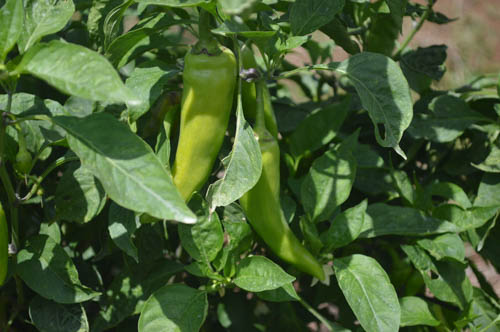ChiliPepper: (163, 52, 235, 213), (243, 144, 323, 278)
